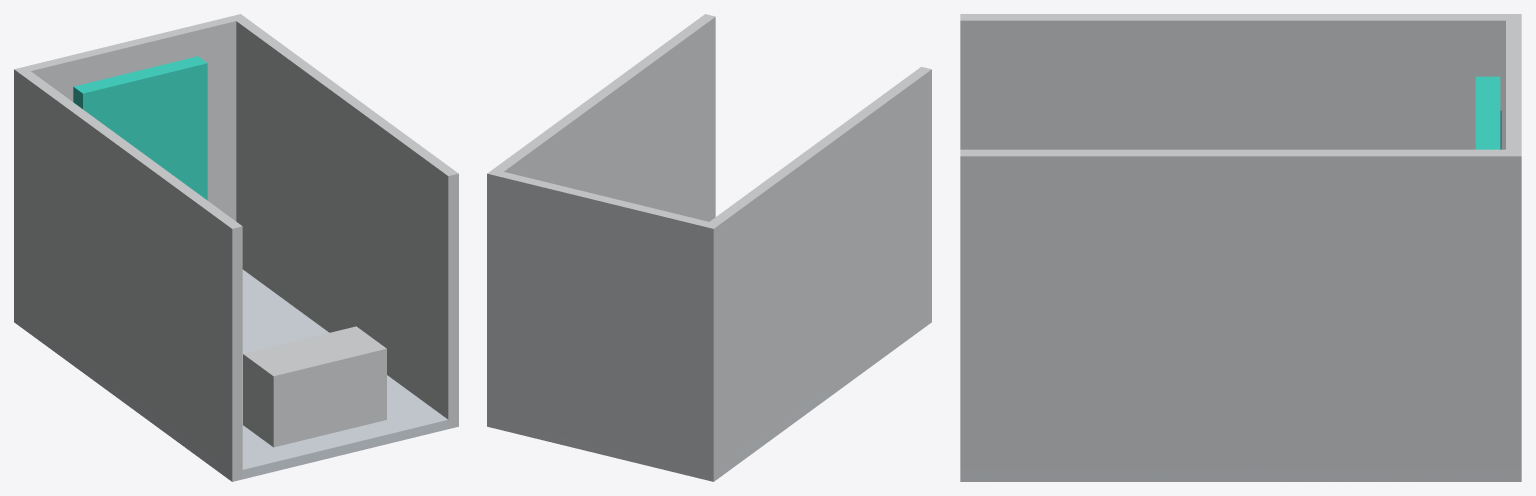
The picture shows the model from 3 angles, left to right: view 1: azimuth 30°, elevation 25°; view 2: azimuth 150°, elevation 25°; view 3: azimuth 270°, elevation 25°; orthographic projection. The views are drawn at different scales.
Parts seen in each view (by area): view 1: Exhibition Booth Concept; view 2: Exhibition Booth Concept; view 3: Exhibition Booth Concept.
Part boxes in pixels (left/top/right/bottom): Exhibition Booth Concept: left=14, top=14, right=458, bottom=481; Exhibition Booth Concept: left=487, top=14, right=931, bottom=481; Exhibition Booth Concept: left=960, top=14, right=1521, bottom=481.
Size of the model in its own units: 3 by 3.2 by 5.
